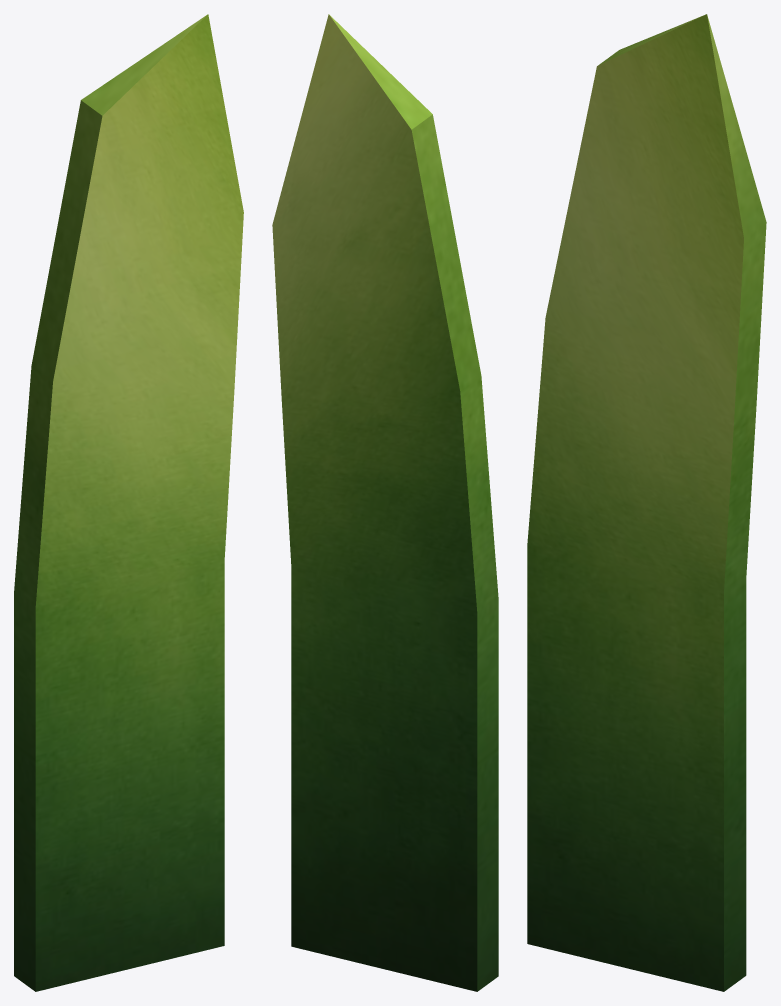
File: Leaf_v1.fbx
3 renders of one model, left to right at view 1: azimuth 30°, elevation 25°; view 2: azimuth 150°, elevation 25°; view 3: azimuth 330°, elevation 25°, orthographic. The views are drawn at different scales.
Visible parts, largest first — view 1: Leaf_v1; view 2: Leaf_v1; view 3: Leaf_v1.
Part boxes in pixels (<box>): Leaf_v1: <box>14,14,243,991</box>; Leaf_v1: <box>272,14,498,991</box>; Leaf_v1: <box>527,14,766,991</box>.
Bounding box in the file's own units: 0.0916 × 0.3933 × 0.0165.
